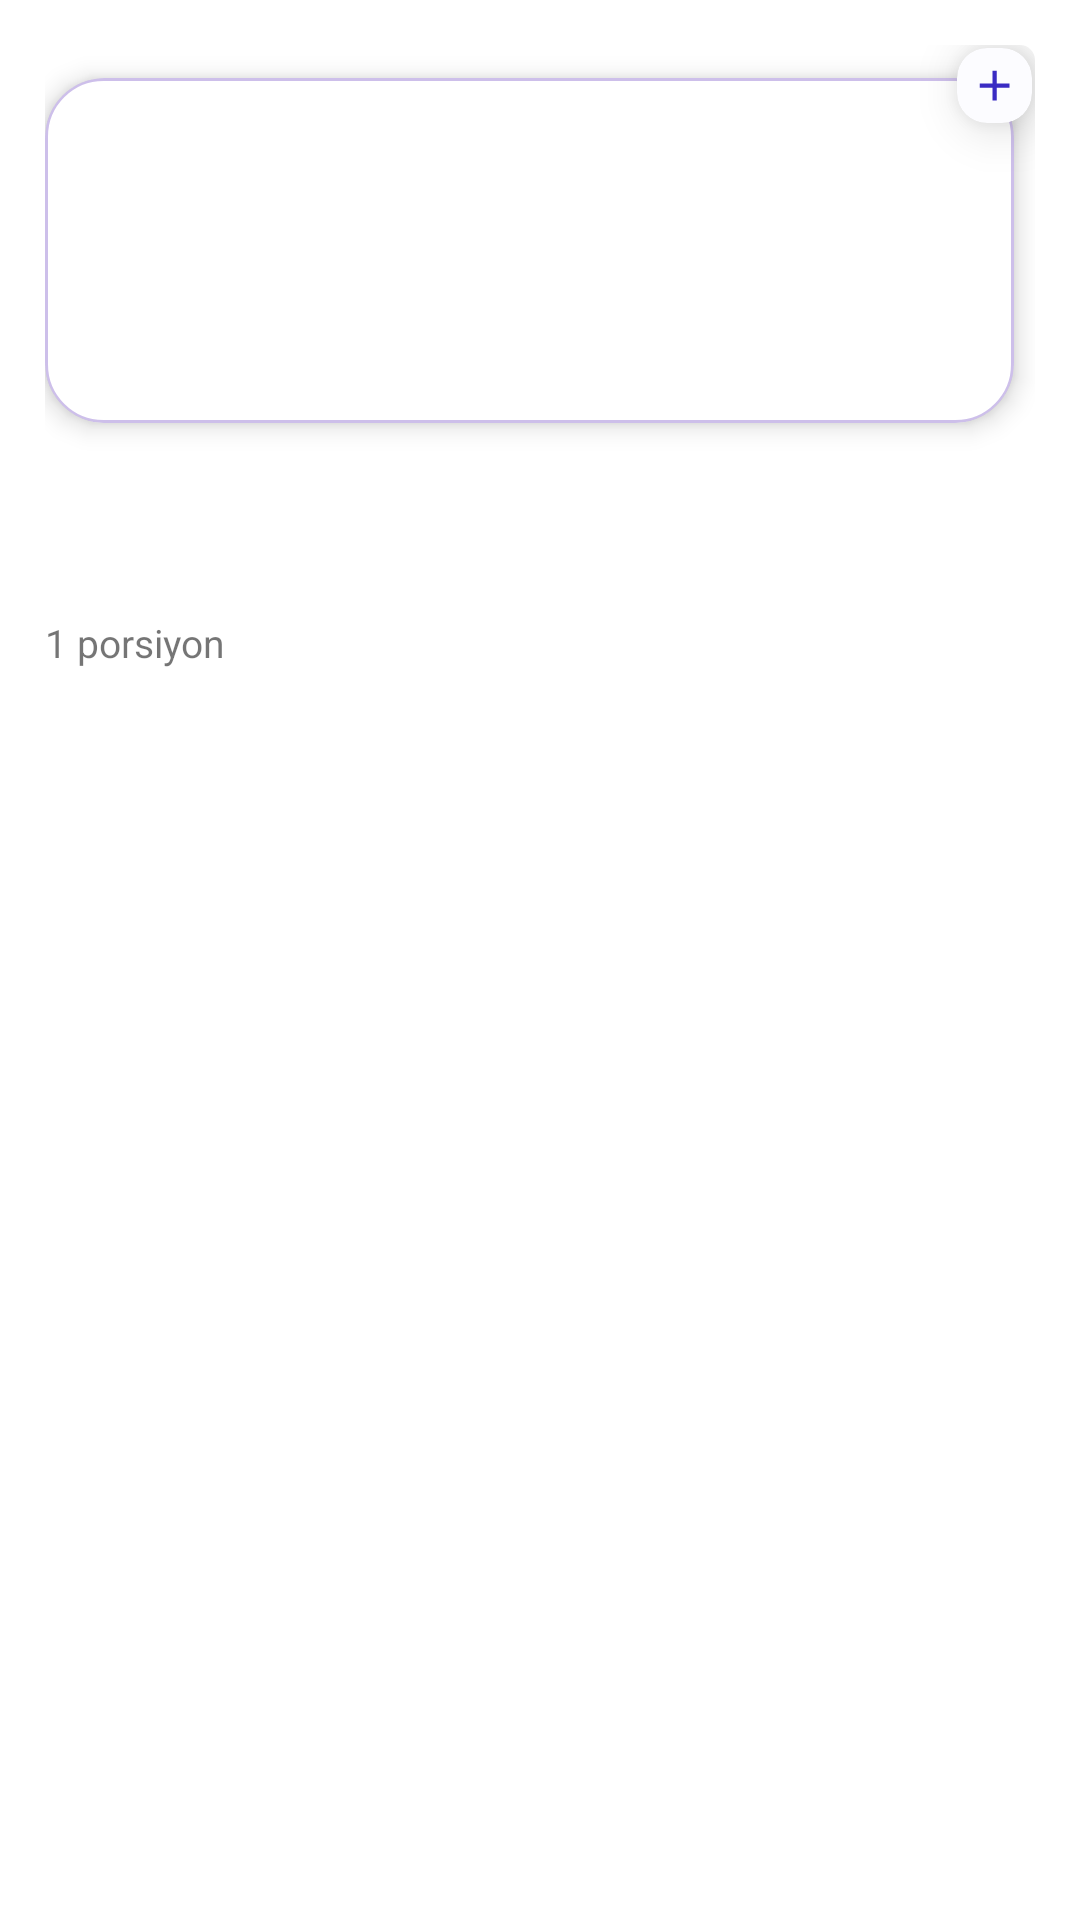

Icons on this 1080×1920 Android screen, each with its box as (x1, y1, x2, y2):
add: (979, 70, 1010, 101)
